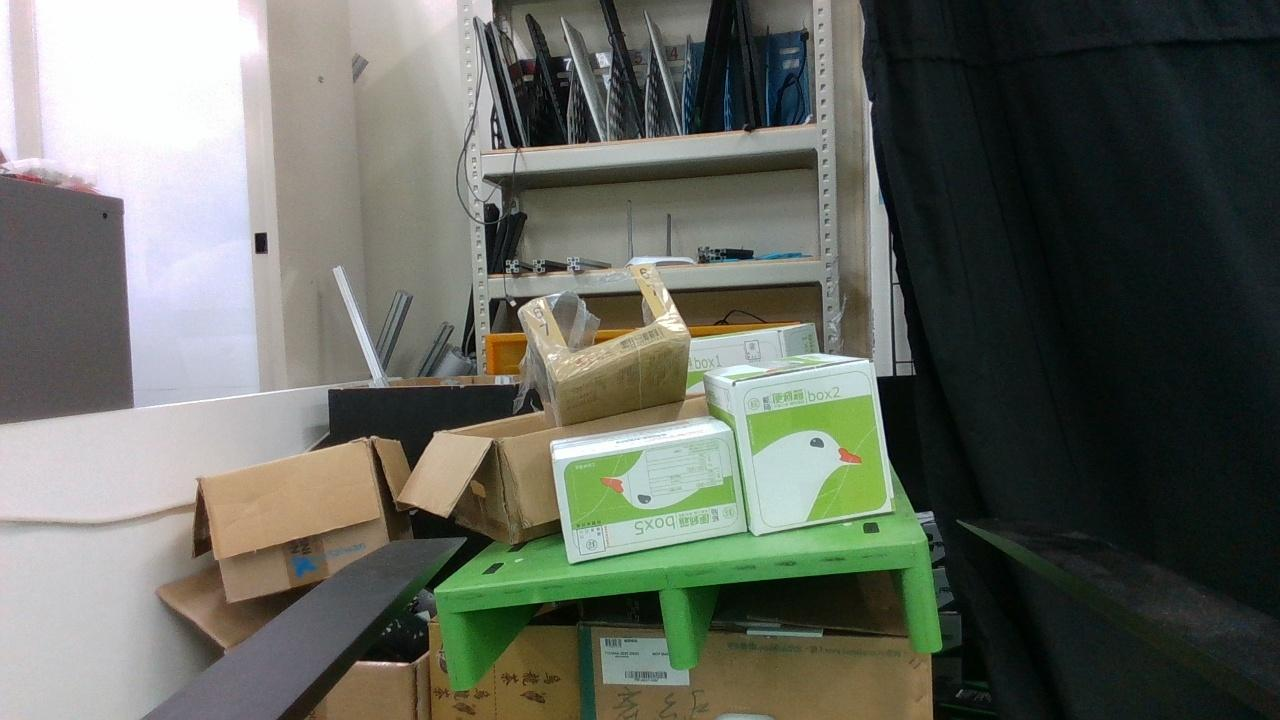Pallet: (437, 540, 944, 690)
